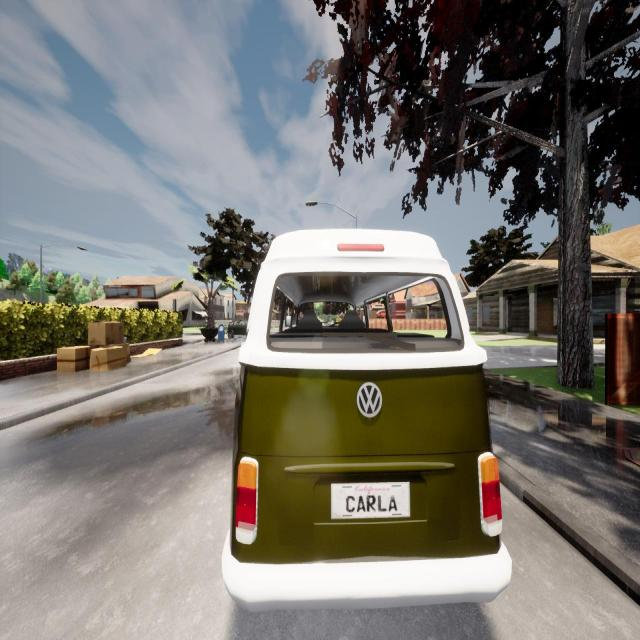Vehicle: (222, 229, 511, 610), (228, 319, 247, 339)
